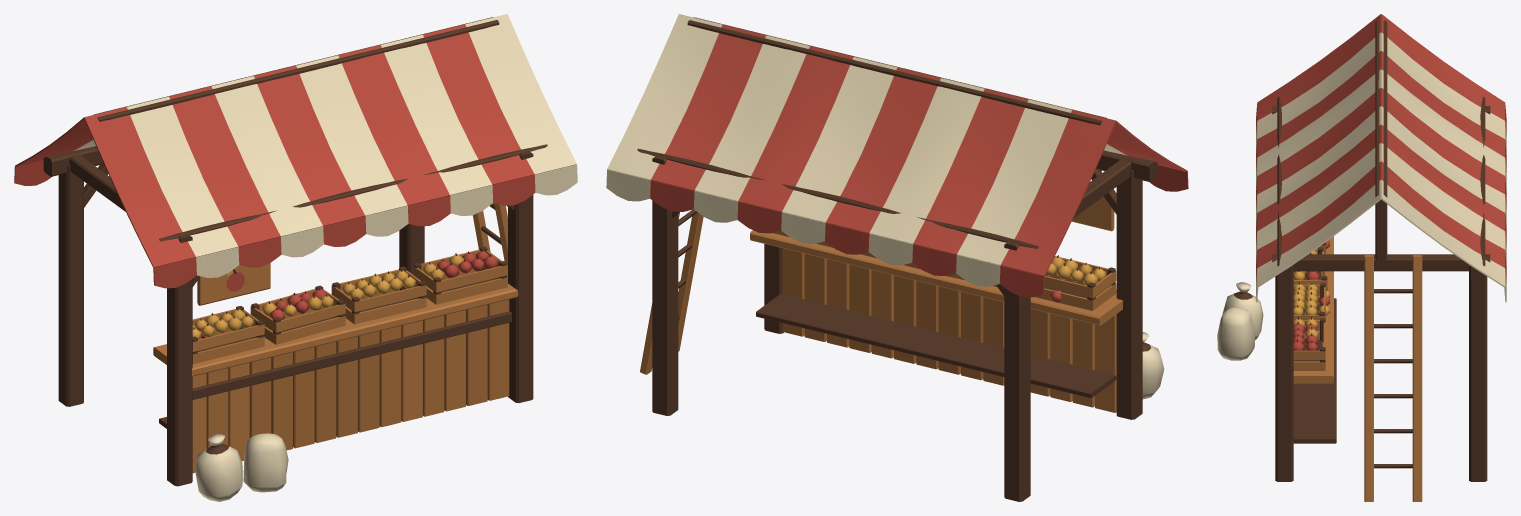
The model's file is prop_produce_stall_a.glb.
3 views of the same model, side by side, from view 1: azimuth 30°, elevation 25°; view 2: azimuth 150°, elevation 25°; view 3: azimuth 270°, elevation 25° (orthographic). The views are drawn at different scales.
Visible parts, largest first — view 1: prop_produce_stall_a_mesh; view 2: prop_produce_stall_a_mesh; view 3: prop_produce_stall_a_mesh.
Boxes of the visible parts, <box> form: prop_produce_stall_a_mesh: <box>14,14,577,501</box>; prop_produce_stall_a_mesh: <box>606,14,1188,501</box>; prop_produce_stall_a_mesh: <box>1217,14,1506,501</box>.
Size of the model in its own units: 3.73 by 2.73 by 2.39.
